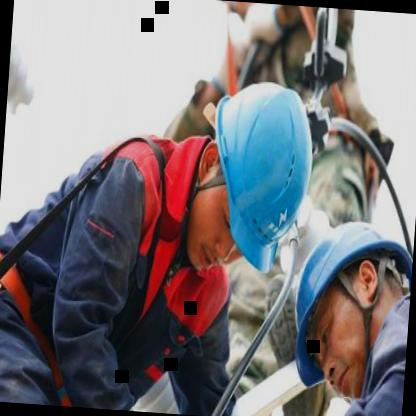helmet: (193, 68, 321, 278), (279, 200, 411, 392)
